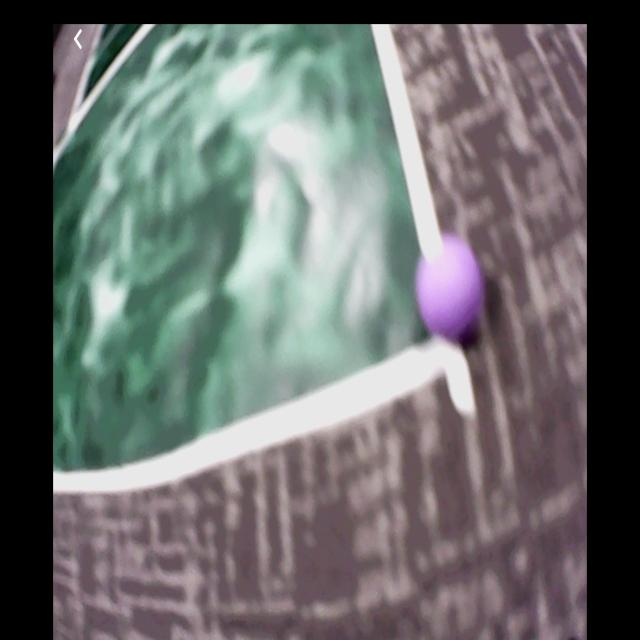ball: (417, 235, 484, 335)
